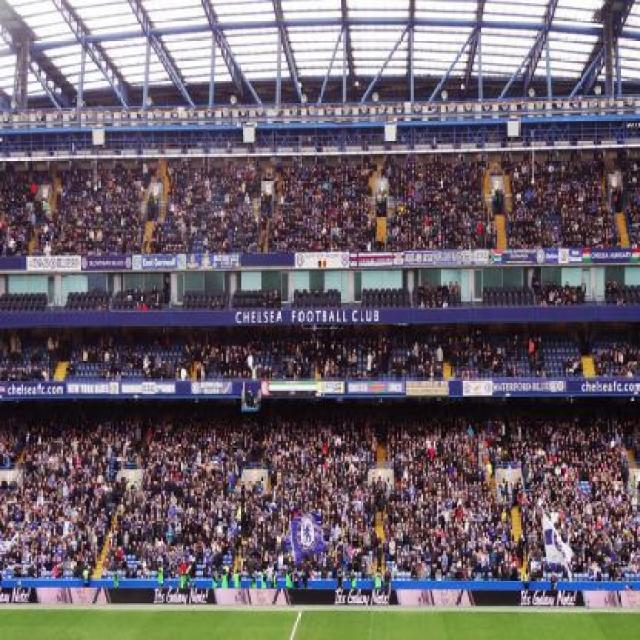Person: (97, 422, 258, 580), (0, 417, 146, 580), (238, 420, 378, 574), (512, 422, 638, 580), (386, 428, 512, 583), (146, 153, 263, 259), (499, 153, 623, 250), (35, 161, 150, 253), (386, 154, 488, 252), (269, 162, 374, 252), (0, 164, 52, 264), (450, 330, 548, 378), (80, 333, 175, 381), (365, 330, 447, 382), (283, 331, 359, 382), (186, 335, 256, 380), (614, 151, 638, 249), (592, 337, 638, 380), (542, 273, 586, 312), (412, 280, 462, 306), (162, 276, 170, 306), (126, 282, 134, 301), (259, 292, 267, 310), (273, 288, 281, 306), (151, 283, 158, 302), (140, 299, 149, 313), (268, 290, 274, 307), (133, 285, 139, 301), (138, 284, 144, 299)
